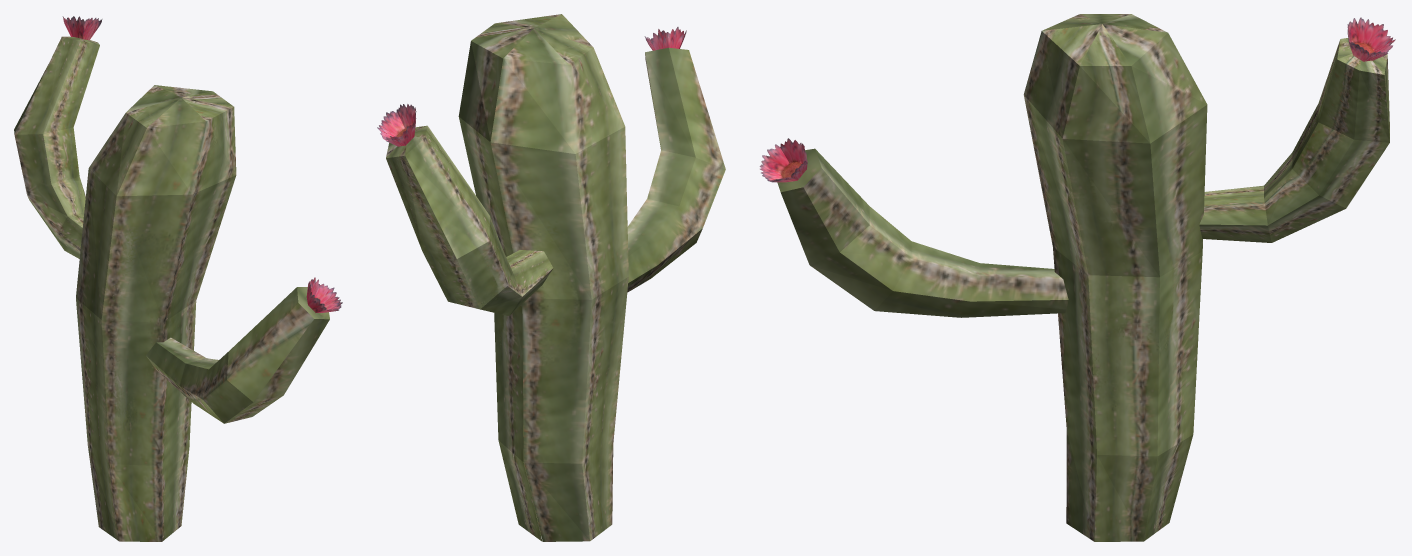
Rendered from cactus.obj.
3 renders of one model, left to right at view 1: azimuth 30°, elevation 25°; view 2: azimuth 150°, elevation 25°; view 3: azimuth 270°, elevation 25°, orthographic. The views are drawn at different scales.
Visible parts, largest first — view 1: Cube, Cube.002, Cube.001; view 2: Cube, Cube.001, Cube.002; view 3: Cube, Cube.002, Cube.001.
Boxes of the visible parts, <box> form: Cube: <box>14,36,329,541</box>; Cube.002: <box>306,277,342,312</box>; Cube.001: <box>62,16,102,40</box>; Cube: <box>386,14,725,541</box>; Cube.001: <box>377,104,416,146</box>; Cube.002: <box>644,27,686,50</box>; Cube: <box>777,14,1389,541</box>; Cube.002: <box>759,138,807,182</box>; Cube.001: <box>1347,17,1395,61</box>.
Size of the model in its own units: 0.4706 by 1.52 by 1.67.
Materials: 2 (2 with a texture image).
